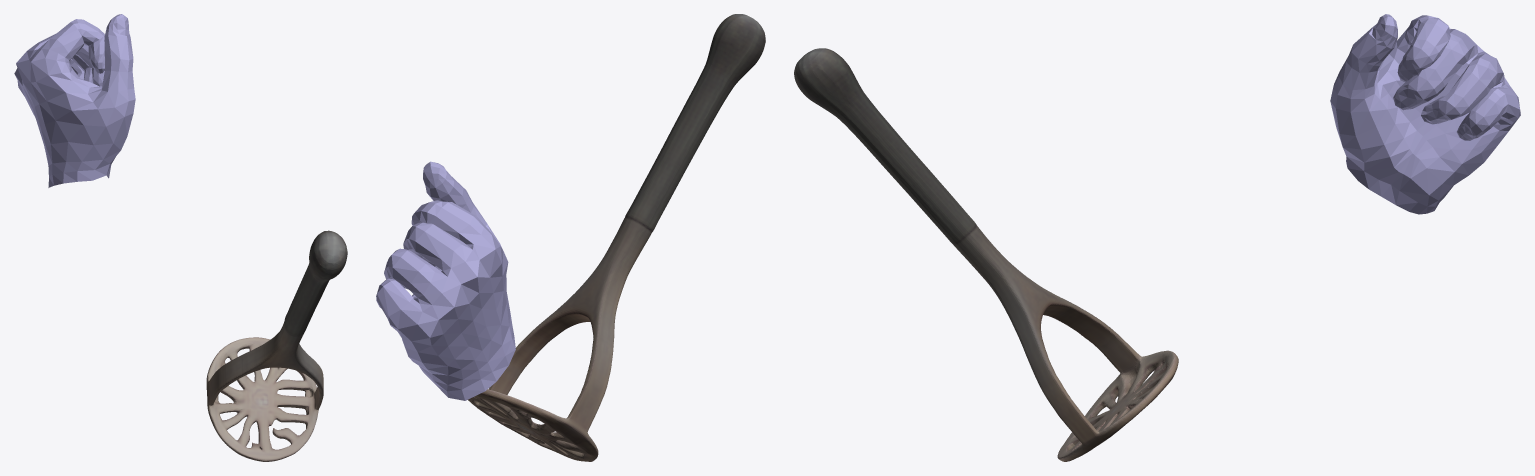
The model's file is frame_0033_source_000033_hand_object.glb.
The picture shows the model from 3 angles, left to right: view 1: azimuth 30°, elevation 25°; view 2: azimuth 150°, elevation 25°; view 3: azimuth 270°, elevation 25°; orthographic projection. The views are drawn at different scales.
Parts seen in each view (by area): view 1: world; view 2: world; view 3: world.
Part boxes in pixels (x1,y1,x2,y2): world: [14, 14, 347, 461]; world: [376, 14, 765, 461]; world: [794, 14, 1520, 461].
Size of the model in its own units: 0.1106 by 0.2457 by 0.3799.
